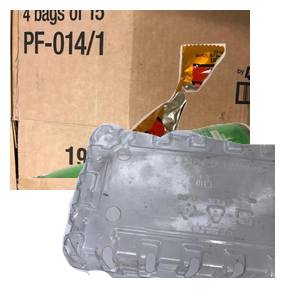cardboard: (10, 10, 250, 190)
glass: (23, 120, 263, 300)
plastic: (60, 120, 300, 300)
trash: (122, 41, 300, 190)
